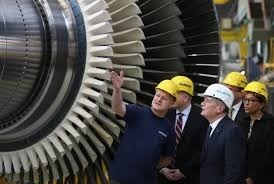helmet: (199, 83, 234, 105), (155, 77, 177, 98), (243, 81, 267, 100), (223, 71, 247, 89), (173, 75, 194, 94)
person with partial safety: (130, 77, 176, 184), (197, 82, 237, 184), (240, 82, 273, 181)
